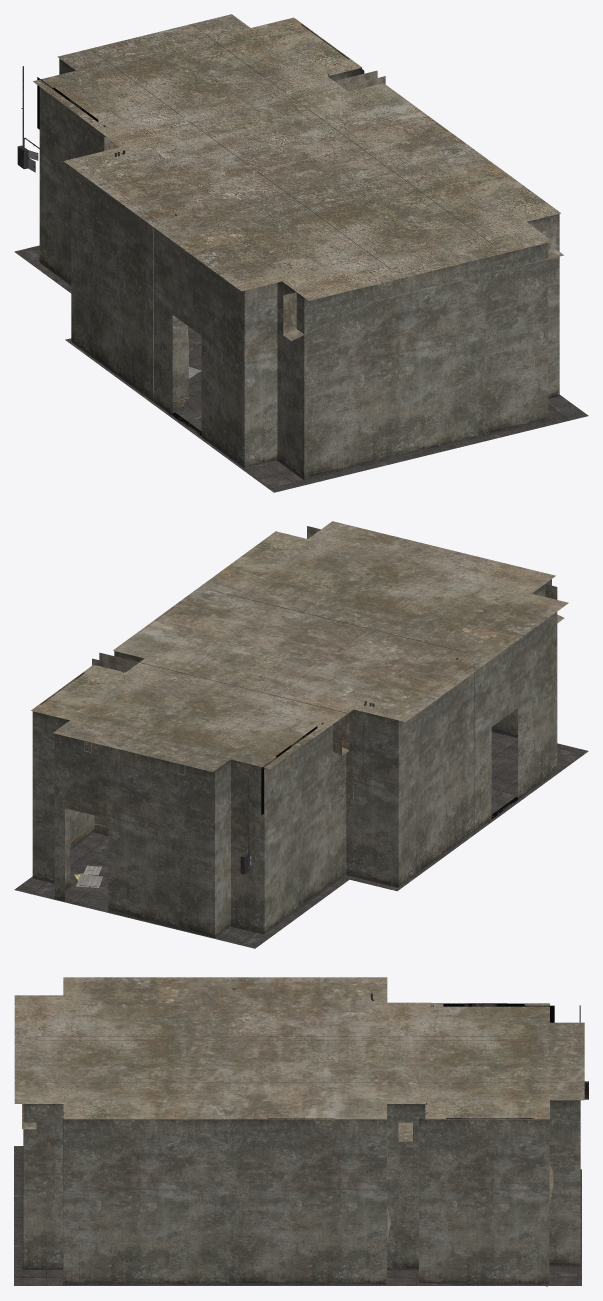
Rendered from st4_204_0_terrain_00ms.fbx.
The picture shows the model from 3 angles, top to bottom: view 1: azimuth 30°, elevation 25°; view 2: azimuth 150°, elevation 25°; view 3: azimuth 270°, elevation 25°; orthographic projection. The views are drawn at different scales.
Visible parts, largest first — view 1: LOD_1_Group_0_Sub_7__st2_police1fLeftWall02, LOD_1_Group_0_Sub_5__st2_police1fLeftCeiling012, LOD_1_Group_0_Sub_1__st2_police1fLeftFloor011, LOD_1_Group_0_Sub_6__st2_Dirt01; view 2: LOD_1_Group_0_Sub_7__st2_police1fLeftWall02, LOD_1_Group_0_Sub_5__st2_police1fLeftCeiling012, LOD_1_Group_0_Sub_1__st2_police1fLeftFloor011, LOD_1_Group_0_Sub_6__st2_Dirt01; view 3: LOD_1_Group_0_Sub_7__st2_police1fLeftWall02, LOD_1_Group_0_Sub_5__st2_police1fLeftCeiling012, LOD_1_Group_0_Sub_1__st2_police1fLeftFloor011, LOD_1_Group_0_Sub_6__st2_Dirt01.
Part boxes in pixels (x1,y1,x2,y2): LOD_1_Group_0_Sub_7__st2_police1fLeftWall02: (39, 58, 559, 480); LOD_1_Group_0_Sub_5__st2_police1fLeftCeiling012: (33, 14, 563, 340); LOD_1_Group_0_Sub_1__st2_police1fLeftFloor011: (14, 245, 588, 492); LOD_1_Group_0_Sub_6__st2_Dirt01: (37, 24, 445, 439); LOD_1_Group_0_Sub_7__st2_police1fLeftWall02: (32, 579, 557, 938); LOD_1_Group_0_Sub_5__st2_police1fLeftCeiling012: (31, 521, 568, 775); LOD_1_Group_0_Sub_1__st2_police1fLeftFloor011: (14, 732, 588, 948); LOD_1_Group_0_Sub_6__st2_Dirt01: (40, 607, 519, 822); LOD_1_Group_0_Sub_7__st2_police1fLeftWall02: (23, 1100, 580, 1284); LOD_1_Group_0_Sub_5__st2_police1fLeftCeiling012: (14, 977, 584, 1141); LOD_1_Group_0_Sub_1__st2_police1fLeftFloor011: (14, 1146, 581, 1285); LOD_1_Group_0_Sub_6__st2_Dirt01: (267, 1004, 554, 1118).
Bounding box in the file's own units: 7.52 × 4.12 × 12.53.
